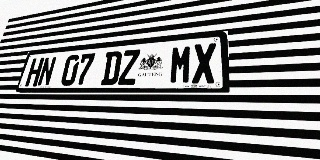0: (60, 54, 81, 86)
7: (74, 53, 95, 86)
D: (100, 51, 123, 85)
H: (25, 57, 44, 86)
M: (169, 45, 193, 84)
N: (37, 56, 57, 86)
X: (192, 42, 216, 84)
Z: (118, 49, 140, 85)
